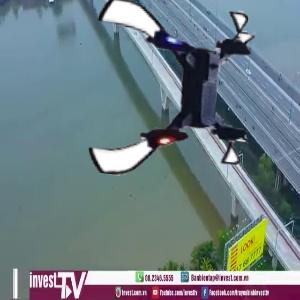drone: (79, 2, 261, 184)
